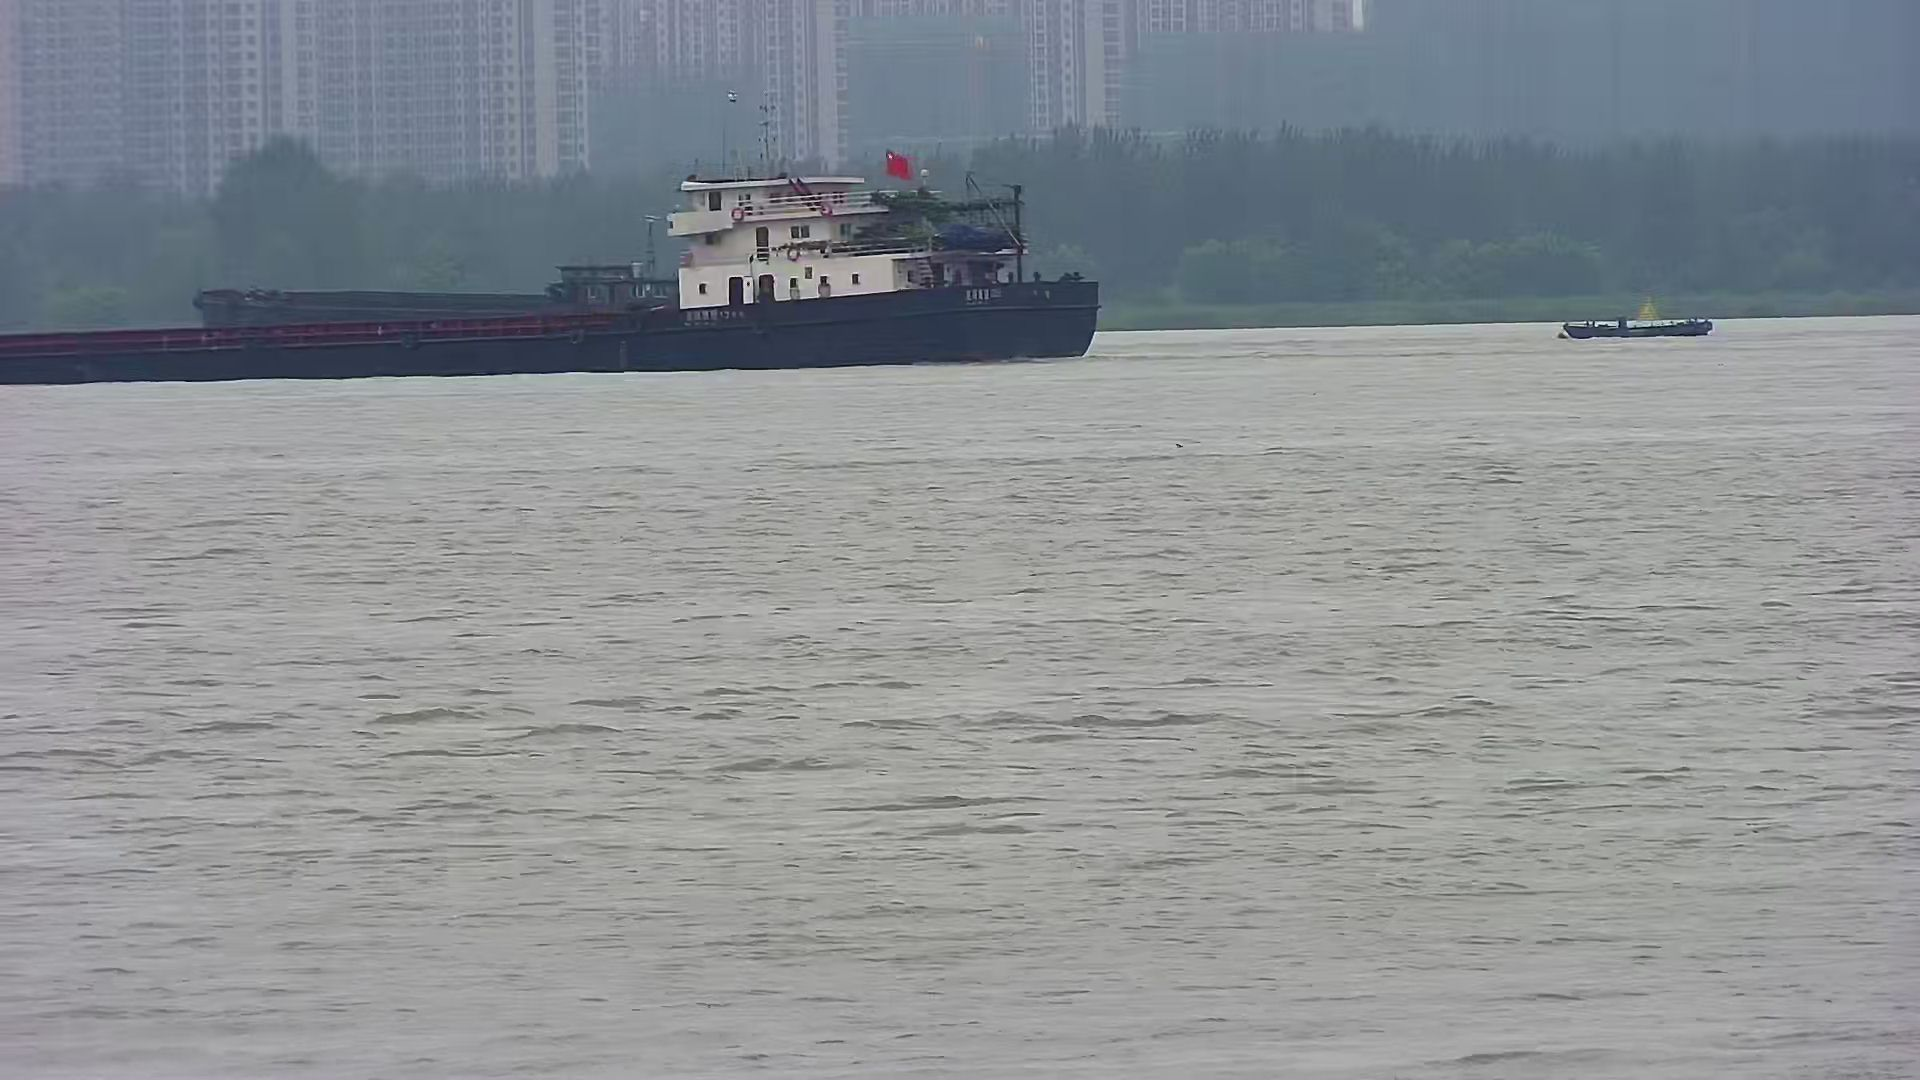boat: (1545, 294, 1717, 340)
ship: (3, 142, 1096, 382), (190, 204, 916, 372)
